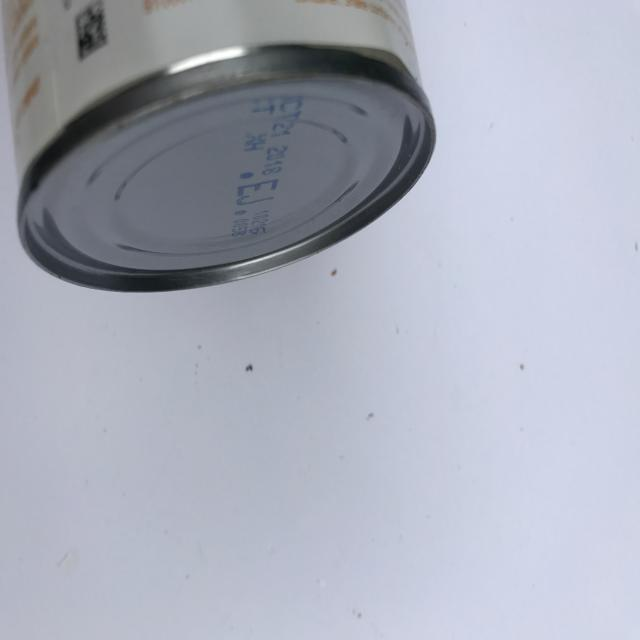metal: (0, 0, 437, 294)
